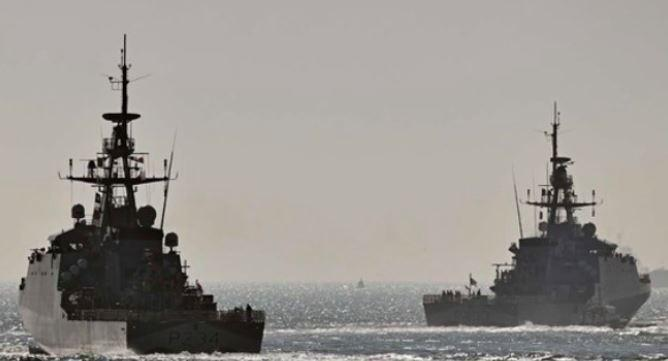MIL_Ship: (17, 31, 270, 356), (422, 97, 654, 332)
